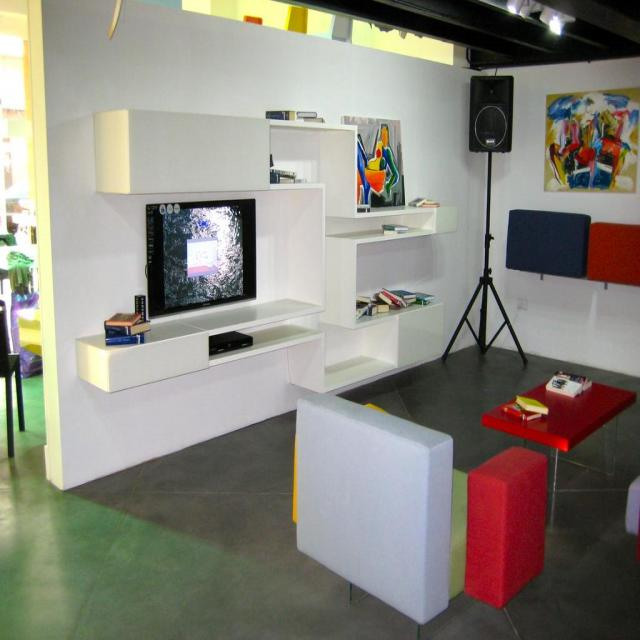Table: (479, 367, 640, 484)
